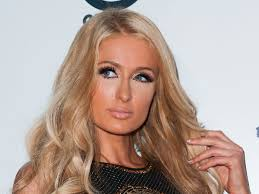middle_eastern_Female: (83, 27, 166, 135)
